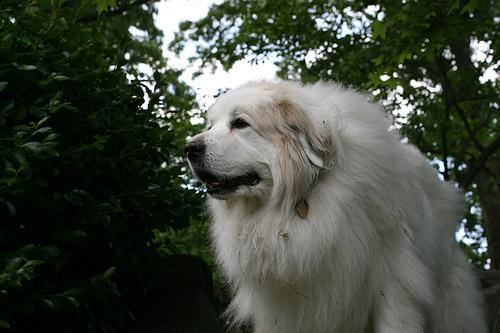Great_Pyrenees: (185, 79, 490, 332)
